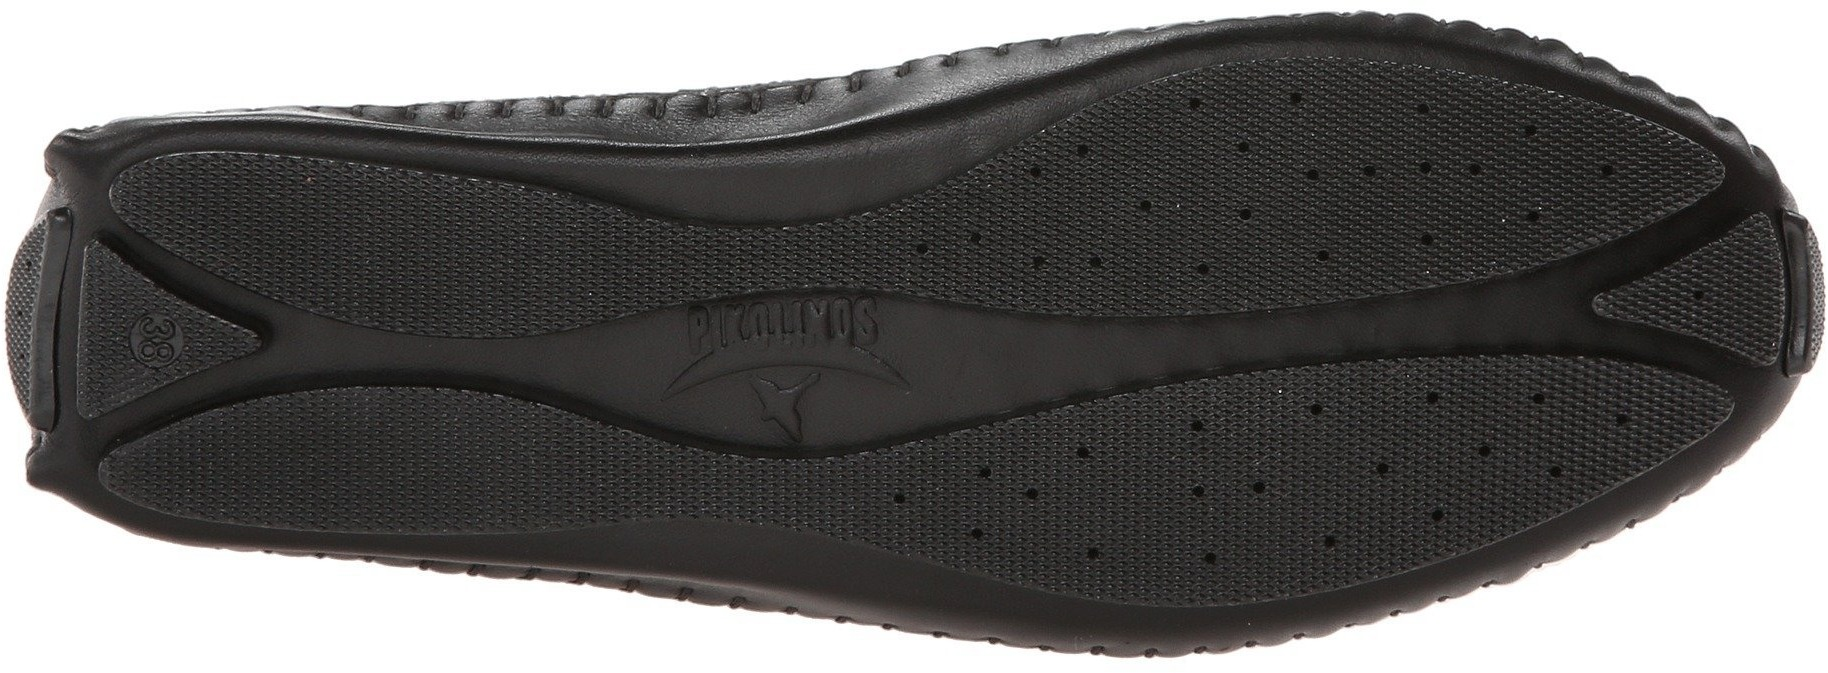text: (677, 288, 766, 360), (782, 280, 862, 348)
